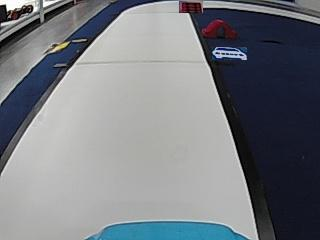bridge: (203, 17, 236, 38)
